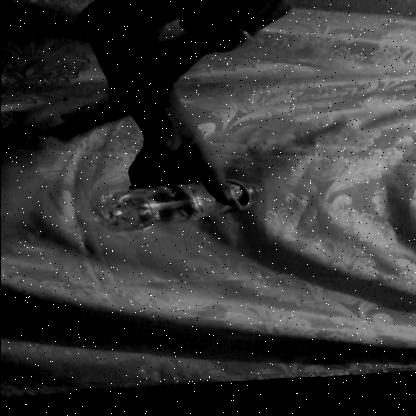Plastic Bottle: (98, 166, 264, 239)
